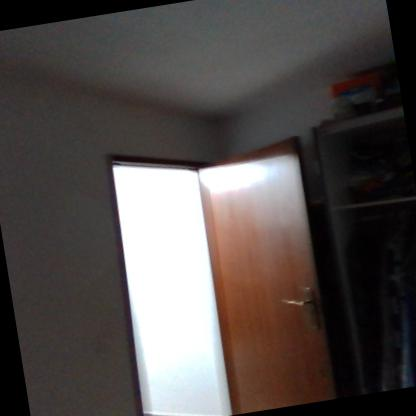open: (80, 116, 359, 415)
